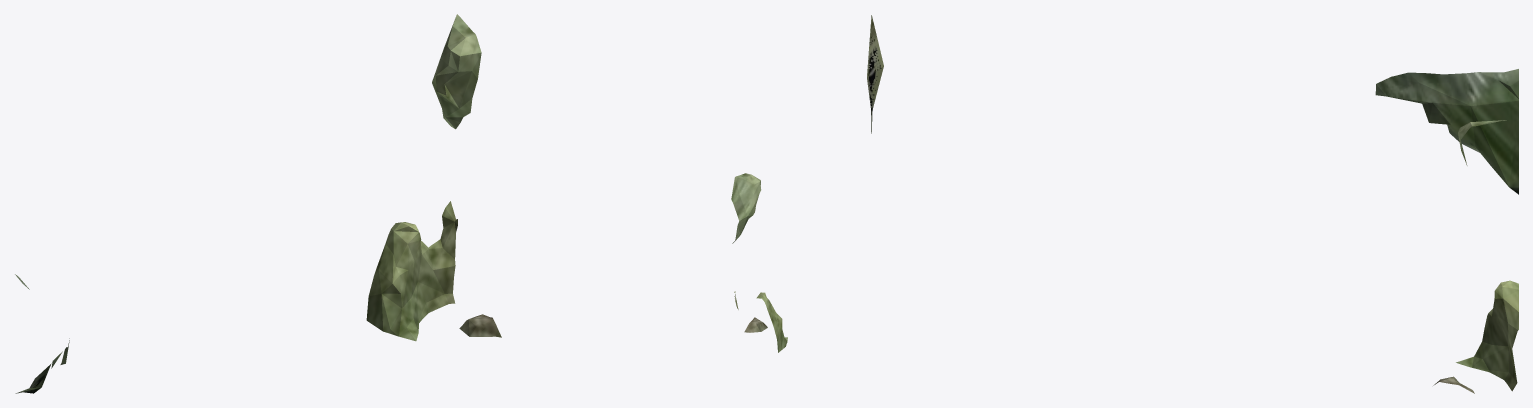
3 renders of one model, left to right at view 1: azimuth 30°, elevation 25°; view 2: azimuth 150°, elevation 25°; view 3: azimuth 270°, elevation 25°, orthographic. The views are drawn at different scales.
Bounding box in the file's own units: 5.9 × 5.22 × 5.9.
Materials: 1 (1 with a texture image).
